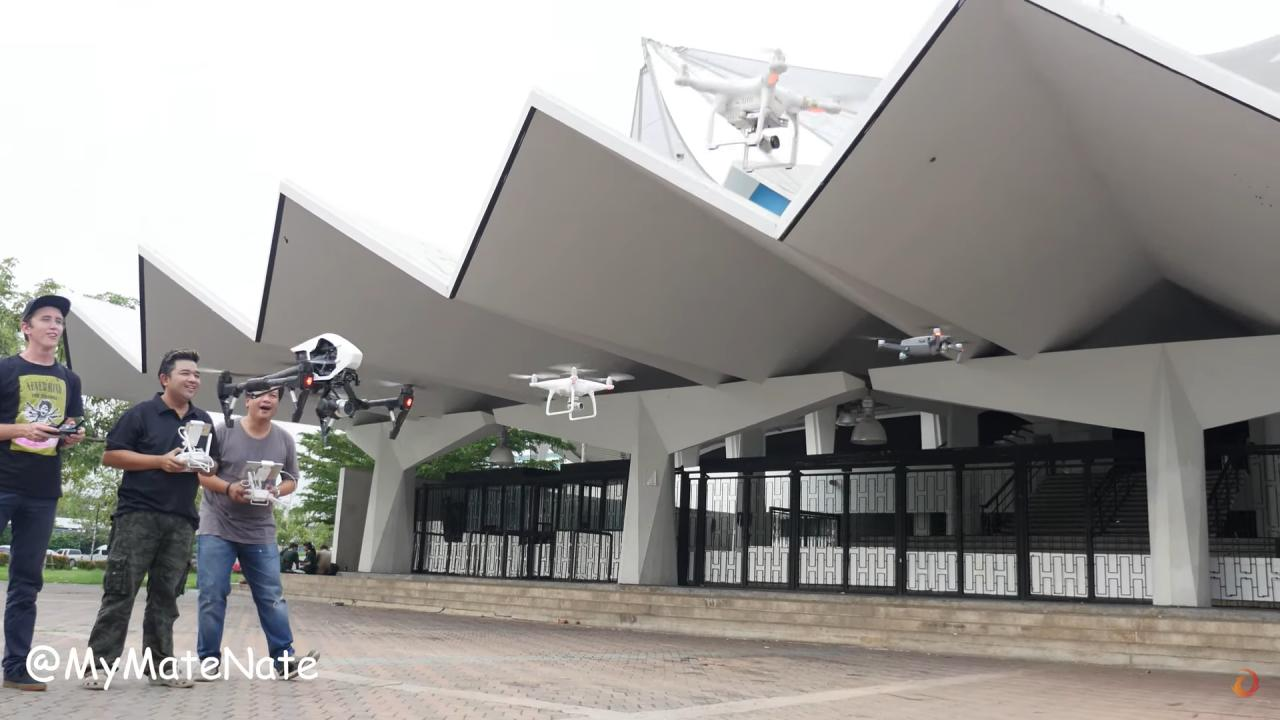Drone: (666, 31, 866, 178), (206, 324, 430, 446), (499, 358, 643, 427), (851, 318, 984, 370)
